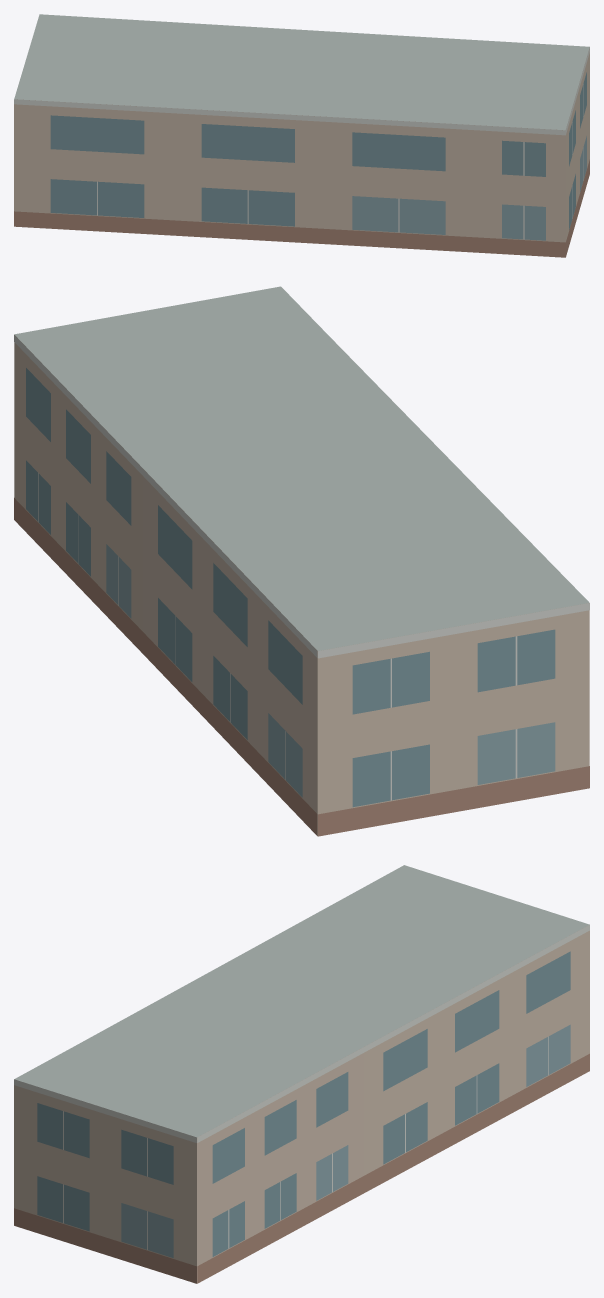
Rendered from survey-upis-32578558.glb.
The picture shows the model from 3 angles, top to bottom: view 1: azimuth 30°, elevation 25°; view 2: azimuth 150°, elevation 25°; view 3: azimuth 270°, elevation 25°; orthographic projection. The views are drawn at different scales.
Parts seen in each view (by area): view 1: survey-upis-32578558.tmp; view 2: survey-upis-32578558.tmp; view 3: survey-upis-32578558.tmp.
Boxes of the visible parts, x1,y1,x2,y2 form: survey-upis-32578558.tmp: (14, 14, 589, 257); survey-upis-32578558.tmp: (14, 286, 589, 836); survey-upis-32578558.tmp: (14, 865, 589, 1283).
Size of the model in its own units: 24.34 by 6.1 by 21.74.
